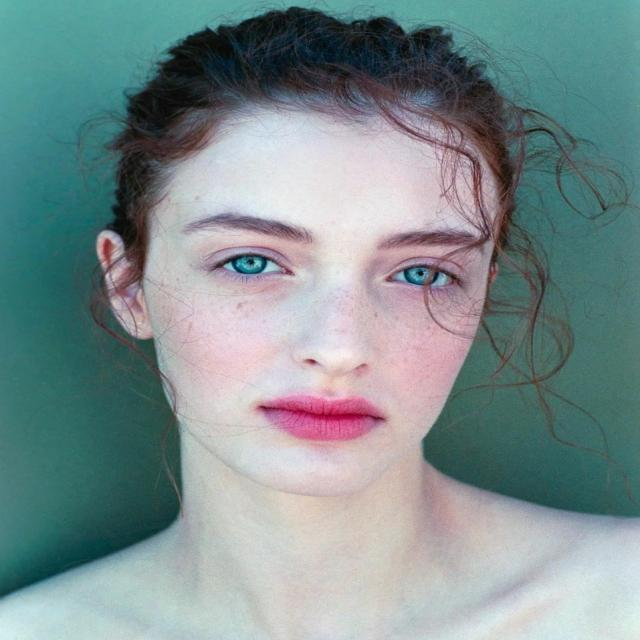earlobe: (124, 307, 155, 341)
eye: (210, 250, 299, 282), (384, 260, 463, 290)
nose: (301, 358, 375, 389)
wholeear: (95, 230, 155, 340)
